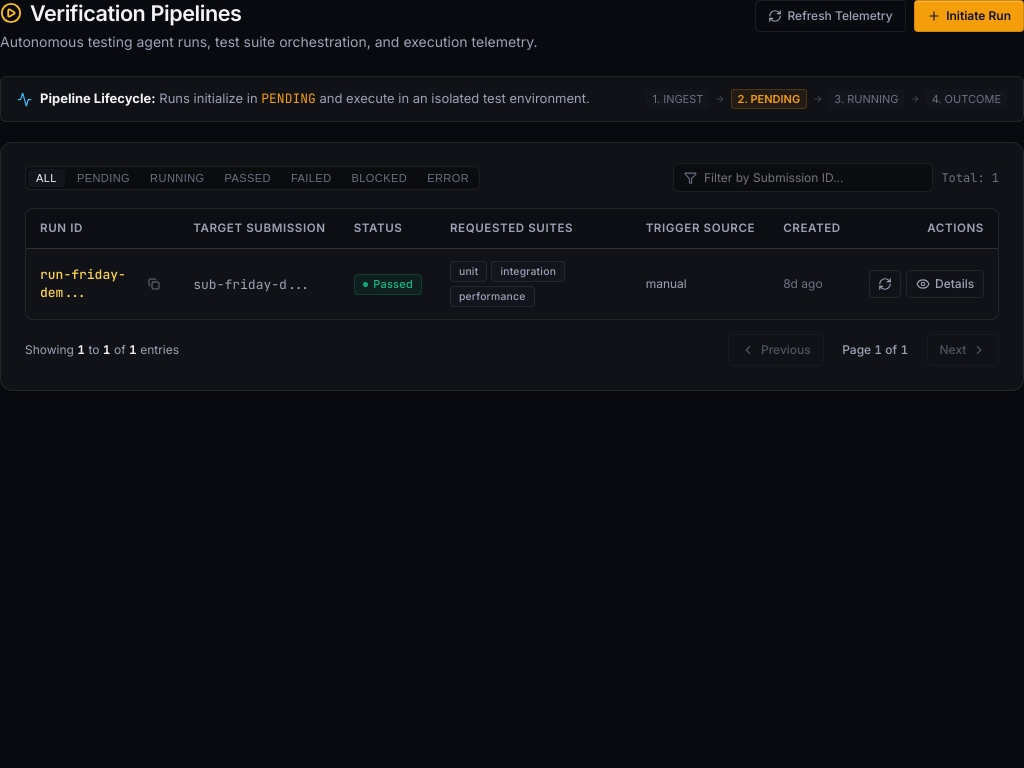
it: Supervisor verification results UI › separates a passed result from delivery and exposes XAI only for confirmed delivery
This screenshot has width=1024, height=768.
Click the button "Details" at x=945, y=284, box left=906, top=270, right=984, bottom=298
(page scrolled)
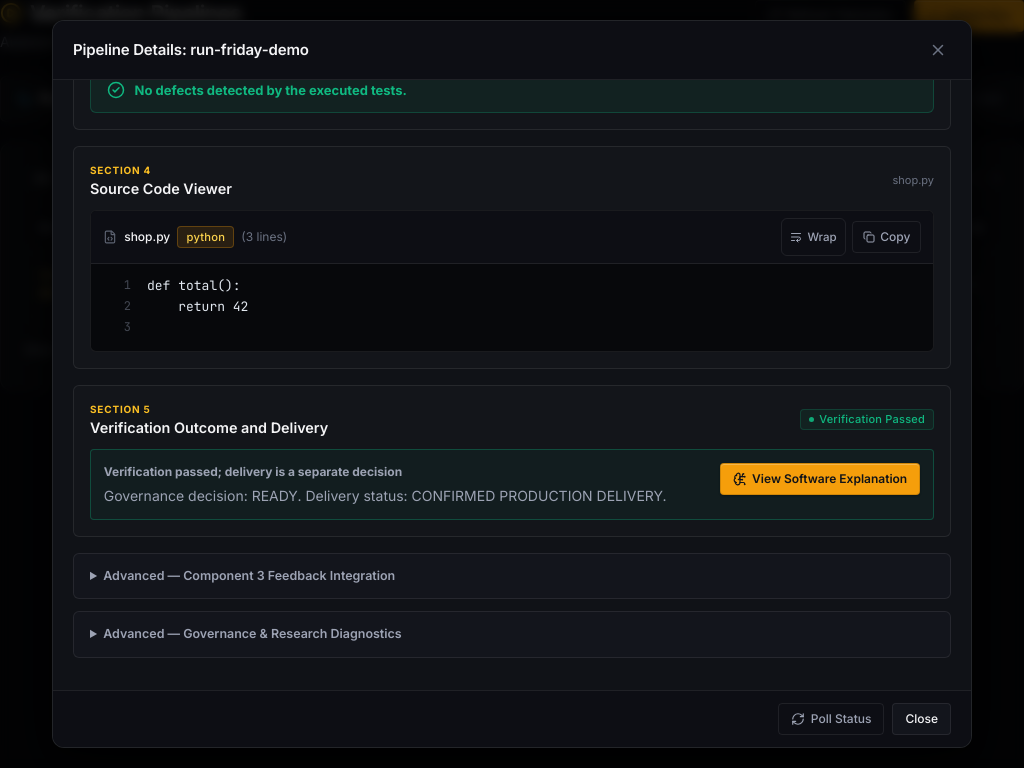
Check: the text "No defects detected by the executed tests." is shown, box left=135, top=82, right=407, bottom=98
Check: the text "Verification Passed" is shown, box left=819, top=412, right=925, bottom=427
Check: the text "Governance decision: READY" is shown, box left=104, top=485, right=667, bottom=506
